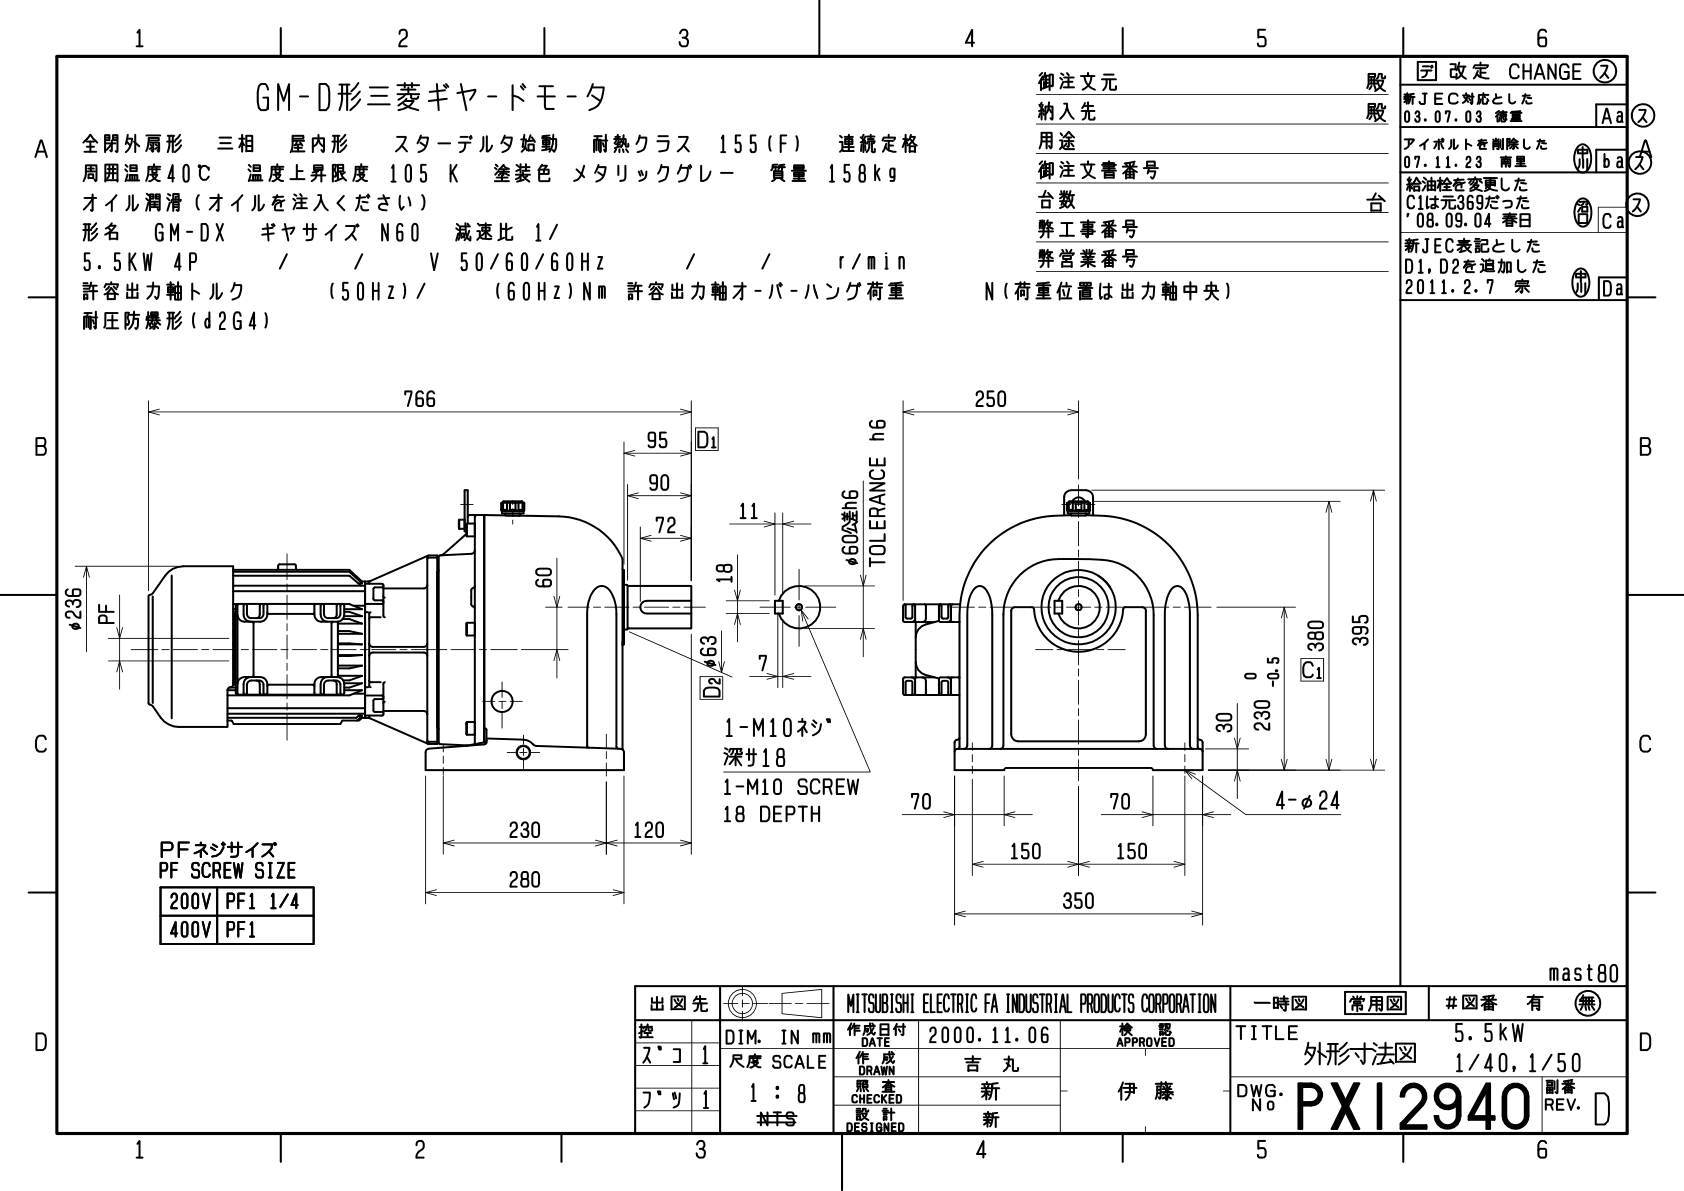GM_D_耐圧屋内_三相_脚: (63, 360, 1397, 967)
